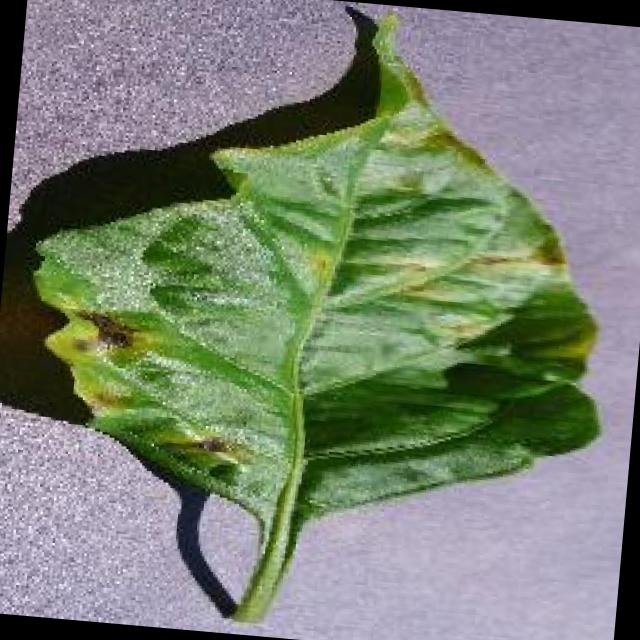Chilli_Bacterial_Spot: (0, 0, 636, 640), (9, 177, 312, 490), (29, 298, 262, 480), (34, 298, 165, 422), (61, 303, 156, 368), (76, 306, 140, 356), (190, 429, 245, 468), (300, 243, 336, 291), (92, 321, 134, 354), (66, 328, 100, 358)
